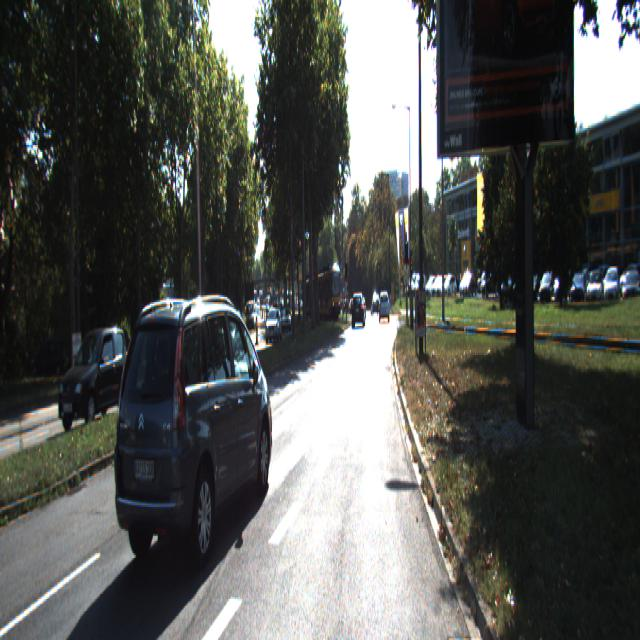Car: (112, 279, 274, 588), (57, 323, 131, 430), (308, 267, 341, 322), (217, 311, 246, 365), (265, 307, 283, 343), (351, 292, 366, 328), (379, 292, 390, 322)
